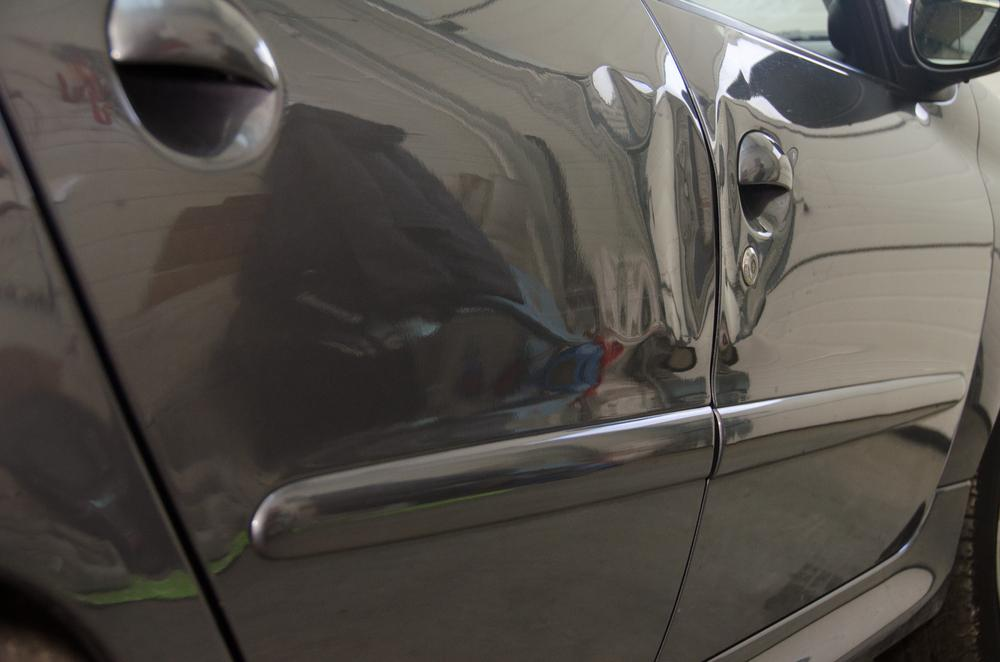dent: (551, 70, 719, 421), (713, 100, 791, 338)
